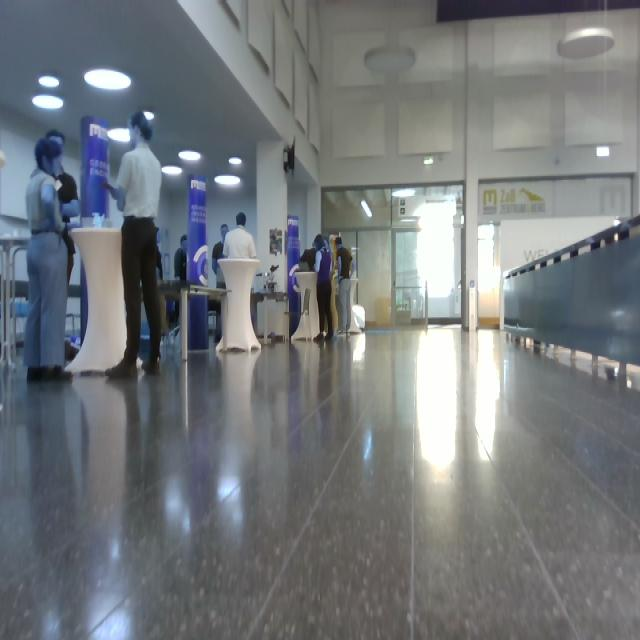light bulb: (557, 26, 615, 60), (364, 45, 416, 74), (84, 68, 132, 92), (32, 95, 64, 111), (107, 128, 131, 144), (38, 74, 60, 89), (214, 175, 241, 187), (179, 150, 201, 161), (162, 165, 183, 176), (361, 200, 373, 218), (392, 189, 416, 198), (596, 146, 610, 157), (143, 110, 155, 121), (229, 157, 242, 165), (1, 150, 6, 168)
person: (102, 112, 163, 378), (24, 133, 77, 382), (221, 213, 259, 337), (312, 234, 335, 341), (335, 237, 353, 334)
pillar: (187, 174, 210, 352)
staircase: (501, 213, 640, 380)
tiled floor: (1, 324, 639, 638)
